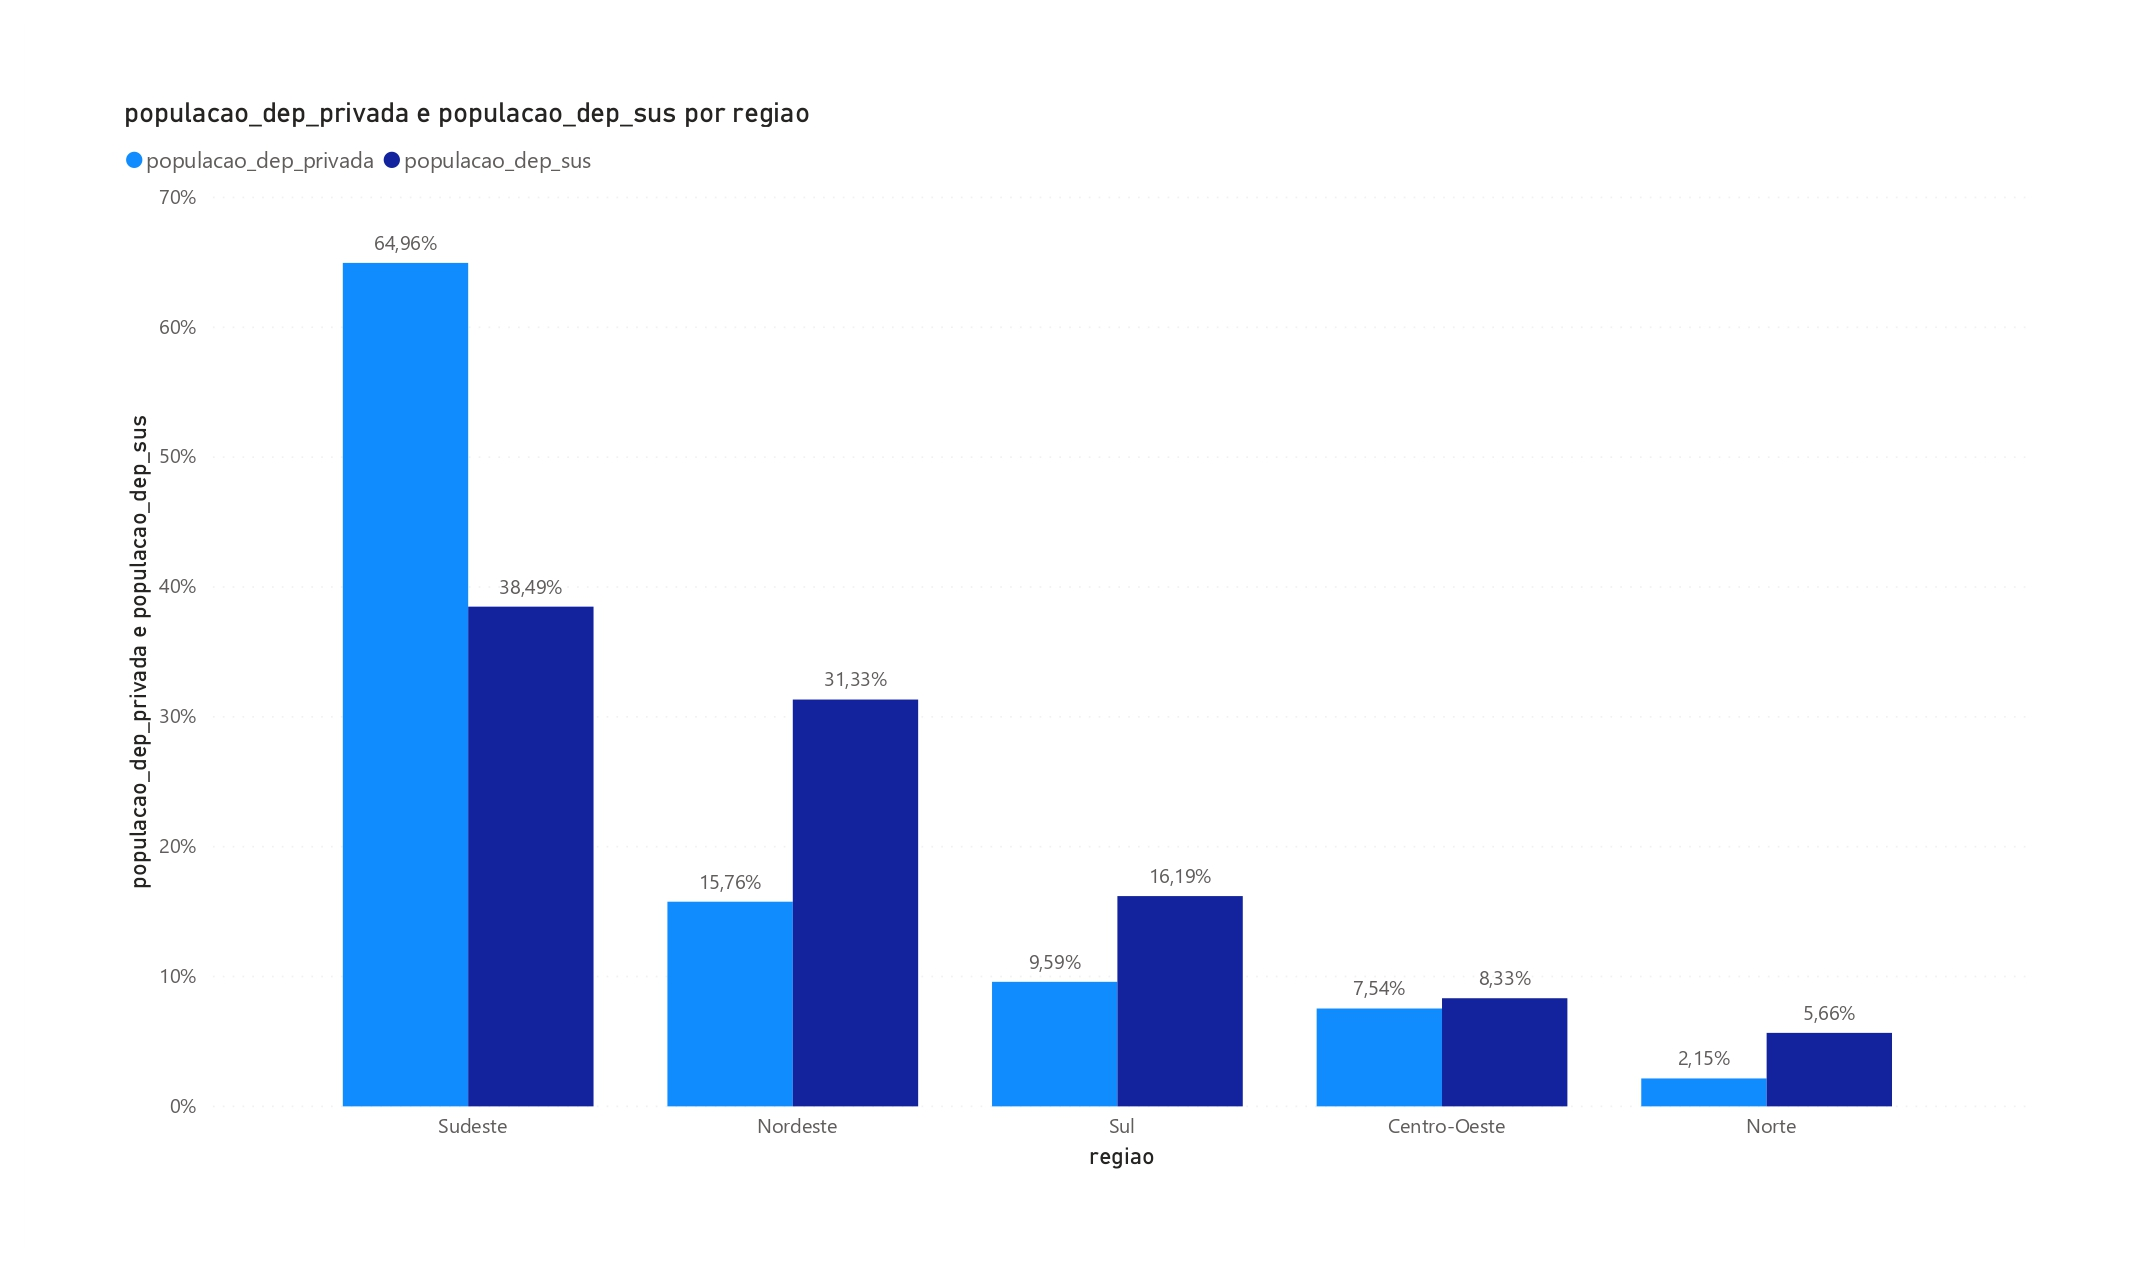

The dashboard page shown, as its layout file describes it:
{"tool":"powerbi","page":{"name":"Populacao","canvas":[1280,720],"ordinal":8},"visuals":[{"type":"clusteredColumnChart","fields":{"Y":["Sum(projetotcc fato_recursos.quant_populacao_dep_privada)","Sum(projetotcc fato_recursos.quant_populacao_dep_sus)"],"Category":["projetotcc dim_local.regiao","projetotcc dim_tempo.ano"]},"box":[54.8,29.2,1172.3,659.2],"z":1}]}

Visuals, with their boxes on the page's 1280x720 design canvas (x1, y1, x2, y2). These are canvas units, not pixel positions in the 2150x1275 screenshot, which may show the page scaled, cropped or inside an application window:
clusteredColumnChart - Sum(projetotcc fato_recursos.quant_populacao_dep_privada) x Sum(projetotcc fato_recursos.quant_populacao_dep_sus): (55, 29, 1227, 688)
